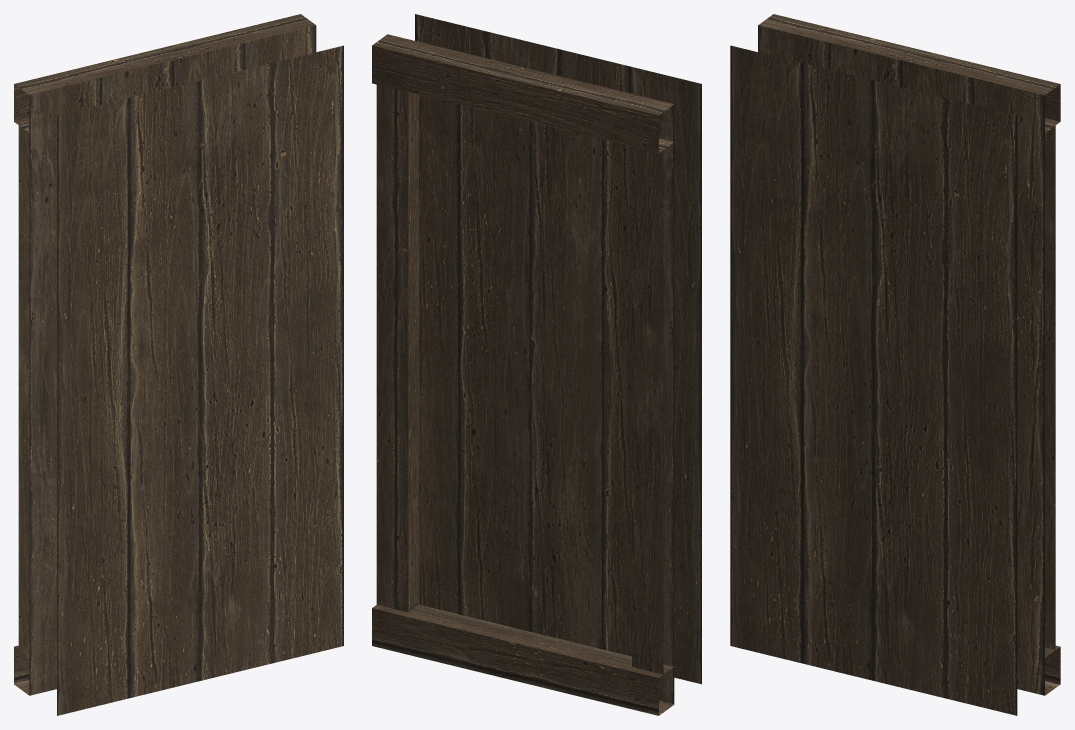
Rendered from ARC1010284.fbx.
3 renders of one model, left to right at view 1: azimuth 30°, elevation 25°; view 2: azimuth 150°, elevation 25°; view 3: azimuth 330°, elevation 25°, orthographic.
Parts seen in each view (by area): view 1: smARC1010284; view 2: smARC1010284; view 3: smARC1010284.
Boxes of the visible parts, x1,y1,x2,y2 form: smARC1010284: [14, 14, 343, 715]; smARC1010284: [372, 14, 701, 715]; smARC1010284: [730, 14, 1060, 715].
Bounding box in the file's own units: 134 × 268 × 34.9.
1 material, 1 textured.
